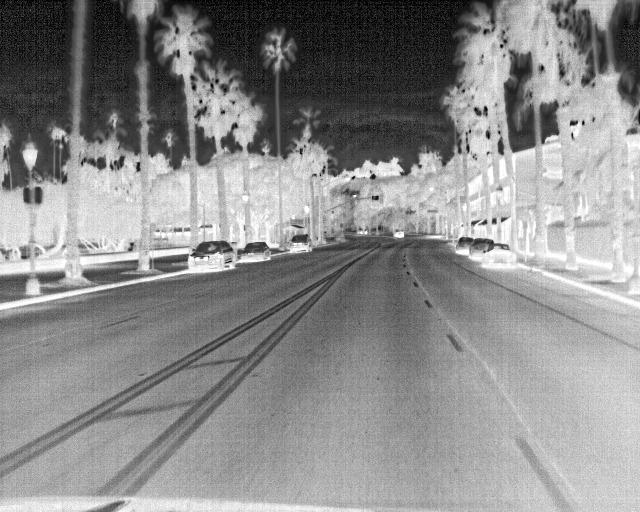car: (187, 239, 238, 270), (478, 240, 515, 266), (239, 239, 272, 260), (288, 232, 316, 252), (470, 235, 494, 258), (454, 235, 475, 253), (390, 225, 406, 240), (354, 223, 369, 235)
